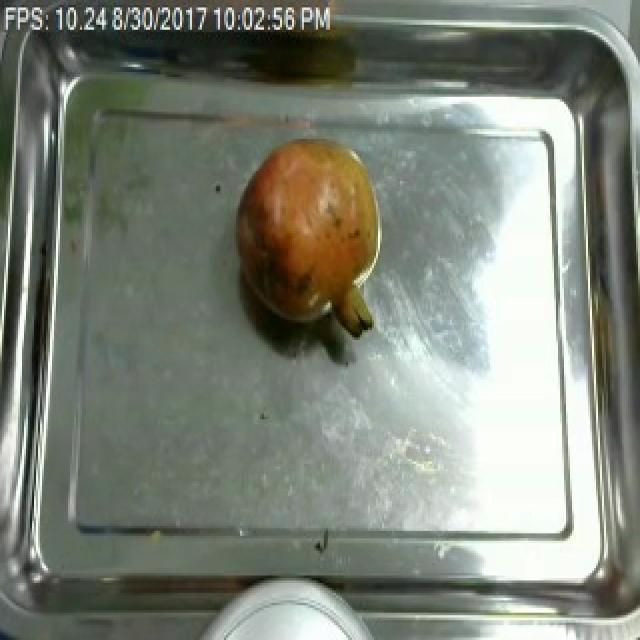fruit: (226, 126, 388, 342)
